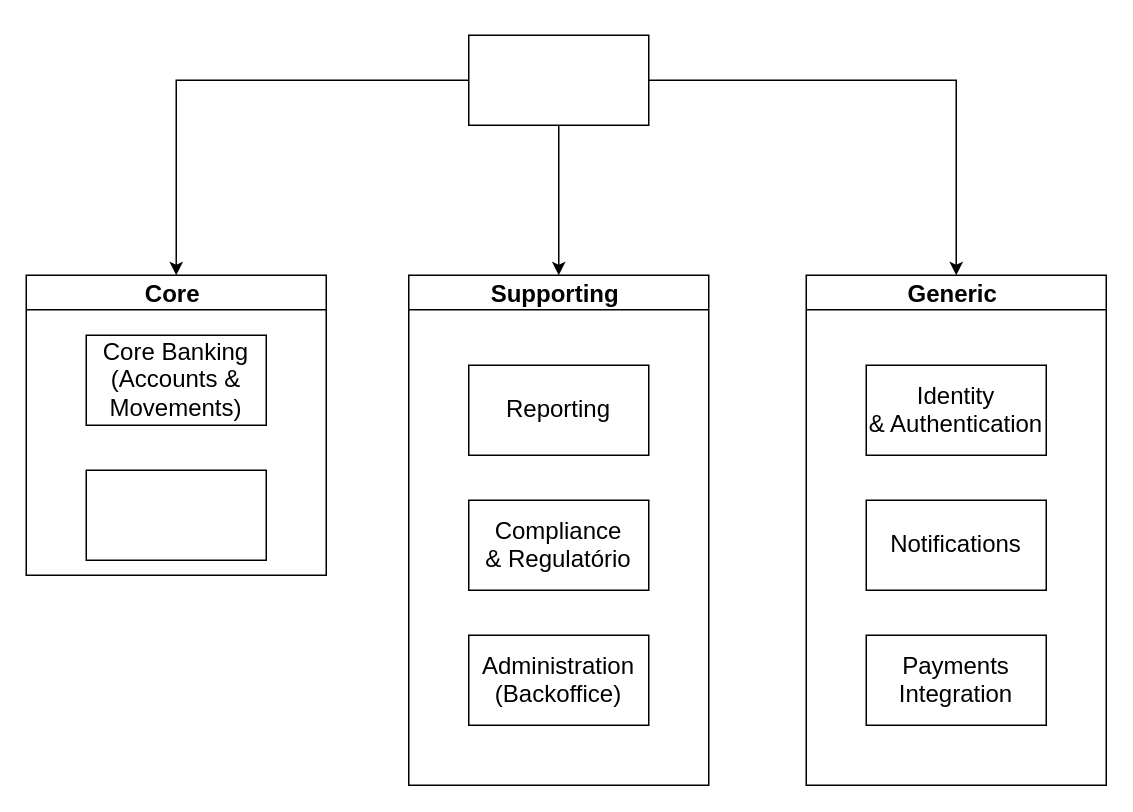
This 1133x812 diagram has some shape labels left out. Here are the shapes that lost their labels. From the top down, the centre of each, then its label:
the point at 558,79: FD Banco Social
the point at 175,514: Community Governance
